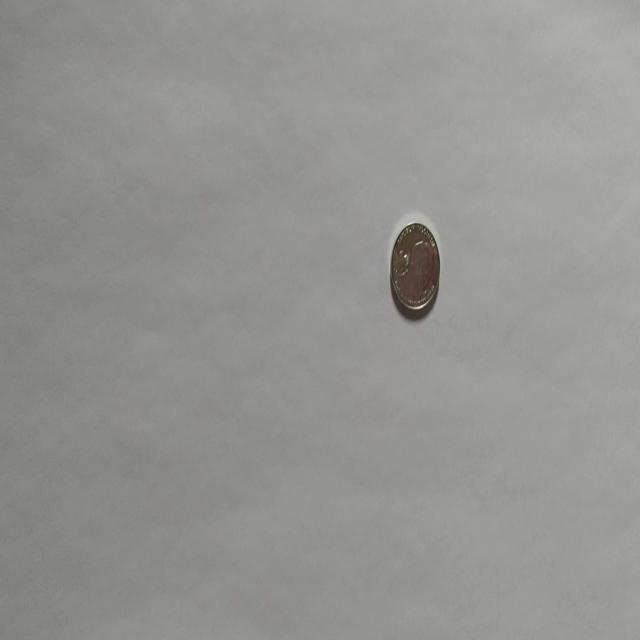seratus rupiah: (389, 220, 441, 316)
